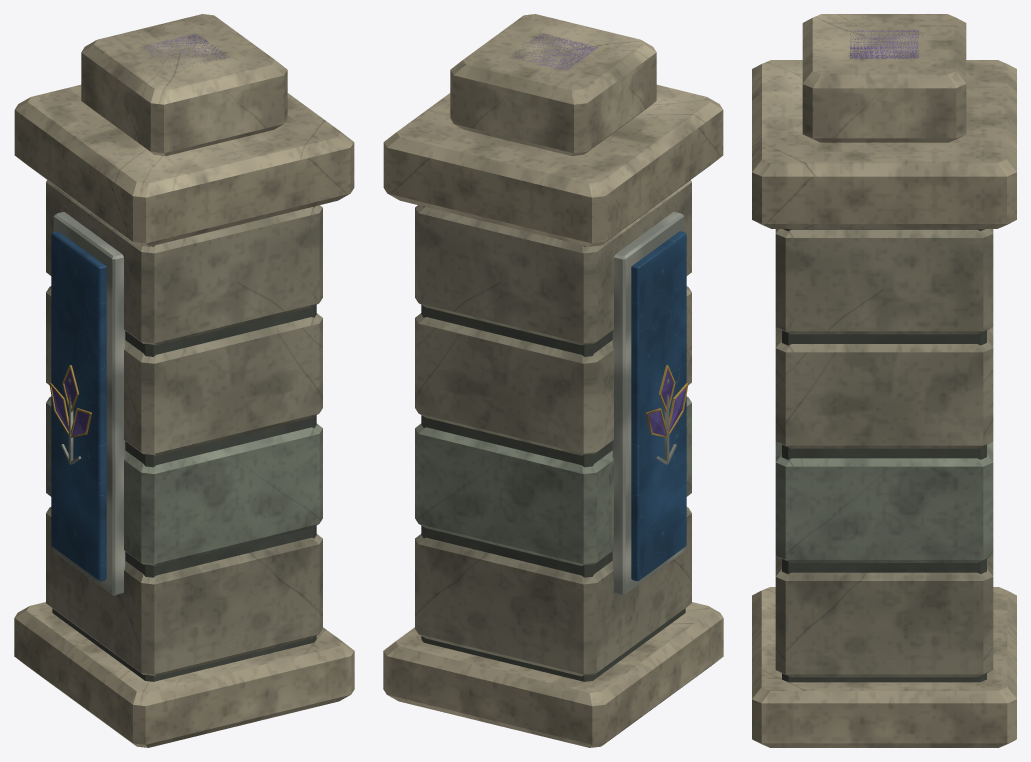
File: b04_pillar_coin.fbx
3 renders of one model, left to right at view 1: azimuth 30°, elevation 25°; view 2: azimuth 150°, elevation 25°; view 3: azimuth 270°, elevation 25°, orthographic. The views are drawn at different scales.
Visible parts, largest first — view 1: b04_pillar_coin; view 2: b04_pillar_coin; view 3: b04_pillar_coin.
Boxes of the visible parts, x1,y1,x2,y2 form: b04_pillar_coin: (14, 14, 354, 747); b04_pillar_coin: (383, 14, 723, 747); b04_pillar_coin: (752, 14, 1016, 747).
Size of the model in its own units: 8582 by 8400 by 22800.
